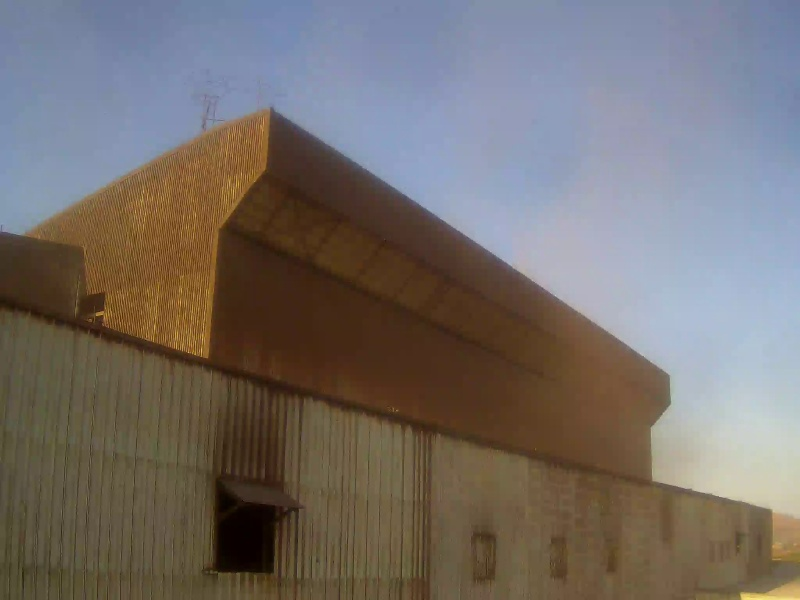ruim: (532, 55, 714, 487)
